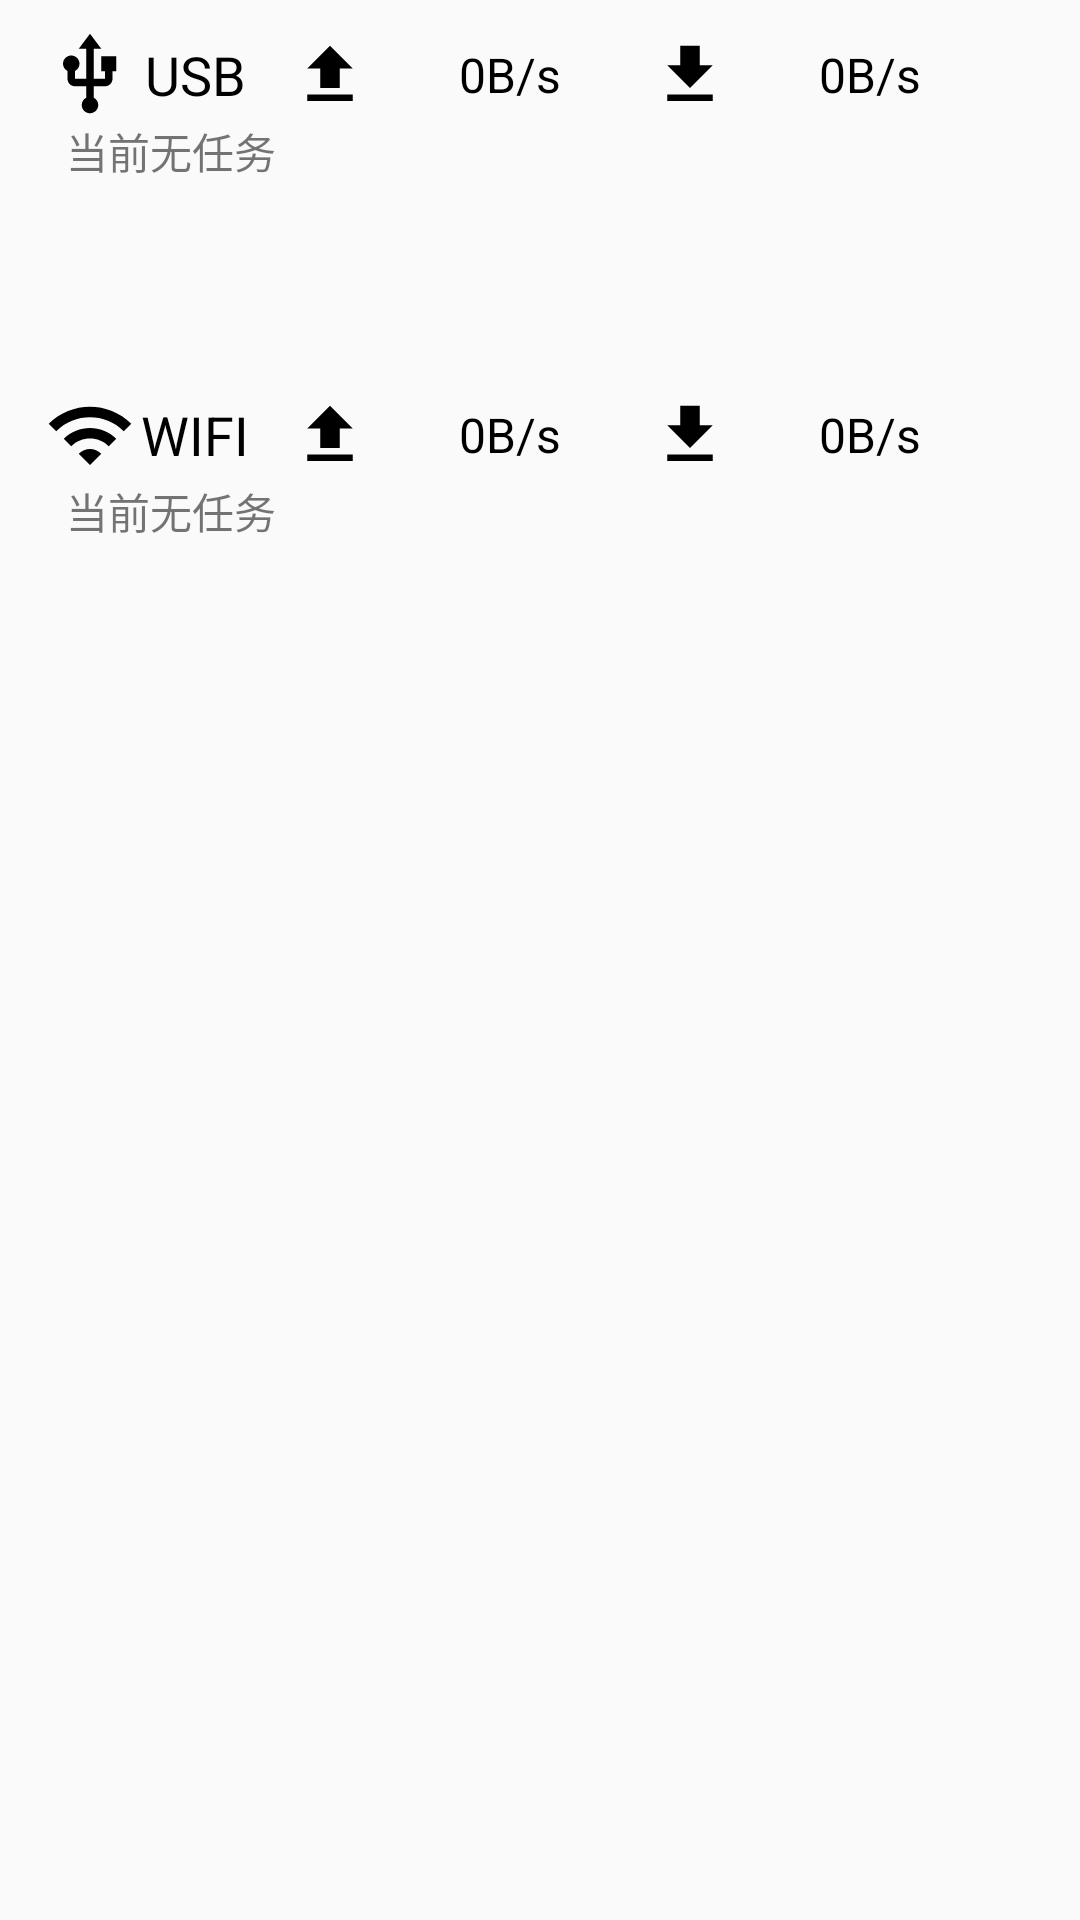

Icon click points for this 1080x1920 phone screenshot, format point (x, y):
file download: point (690, 73), point (690, 433)
upload: point (330, 73), point (330, 433)
